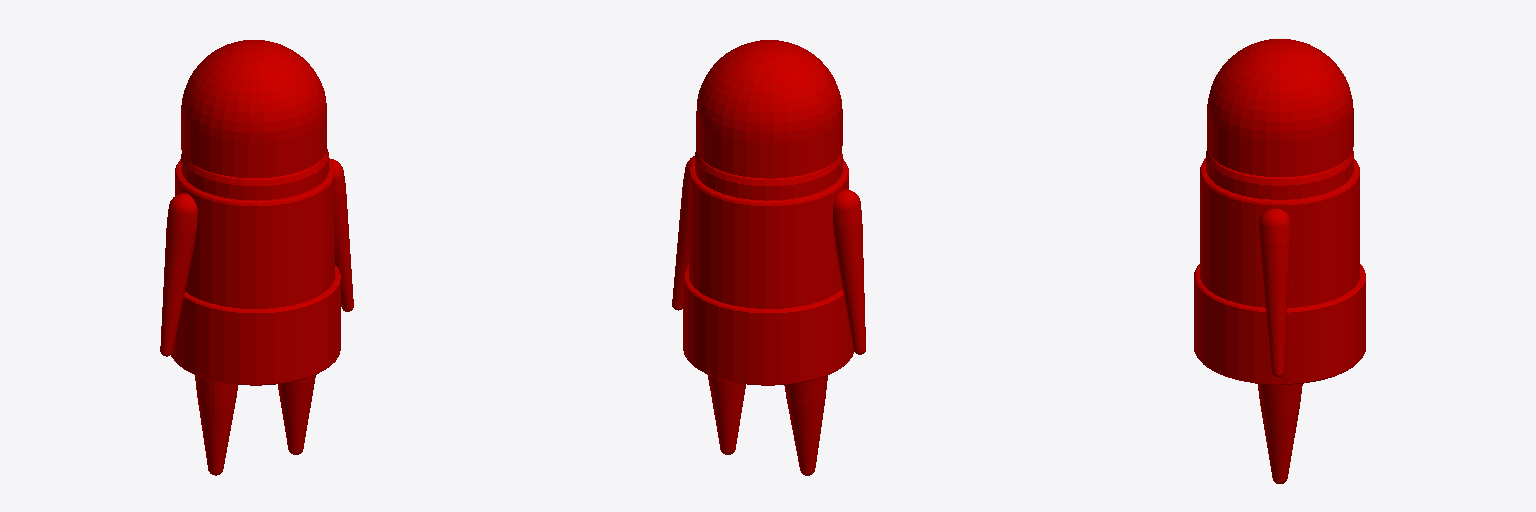
The model's file is RepoBody.obj.
The picture shows the model from 3 angles: view 1: azimuth 30°, elevation 25°; view 2: azimuth 150°, elevation 25°; view 3: azimuth 270°, elevation 25°; orthographic projection.
Parts seen in each view (by area): view 1: Cylinder.013, Cylinder.003, Cylinder.010, Cylinder.014, Cylinder.012, Cylinder.016, Cylinder.017, Cylinder.015; view 2: Cylinder.013, Cylinder.003, Cylinder.010, Cylinder.014, Cylinder.012, Cylinder.016, Cylinder.017, Cylinder.015; view 3: Cylinder.013, Cylinder.003, Cylinder.010, Cylinder.015, Cylinder.012, Cylinder.017.
Boxes of the visible parts, box(x1,y1,x2,y2) form: Cylinder.013: box(181, 40, 326, 177); Cylinder.003: box(175, 159, 334, 308); Cylinder.010: box(171, 265, 340, 385); Cylinder.014: box(160, 193, 197, 356); Cylinder.012: box(181, 149, 328, 200); Cylinder.016: box(195, 375, 237, 475); Cylinder.017: box(278, 375, 315, 454); Cylinder.015: box(329, 158, 353, 311); Cylinder.013: box(696, 40, 842, 178); Cylinder.003: box(689, 159, 848, 308); Cylinder.010: box(683, 265, 853, 385); Cylinder.014: box(833, 189, 865, 354); Cylinder.012: box(695, 150, 842, 200); Cylinder.016: box(784, 376, 827, 475); Cylinder.017: box(708, 375, 745, 454); Cylinder.015: box(672, 156, 694, 310); Cylinder.013: box(1207, 39, 1353, 176); Cylinder.003: box(1200, 158, 1359, 307); Cylinder.010: box(1194, 264, 1365, 384); Cylinder.015: box(1259, 209, 1290, 376); Cylinder.012: box(1206, 149, 1353, 199); Cylinder.017: box(1258, 384, 1302, 483).
Bounding box in the file's own units: 1.68 × 3.5 × 1.3.